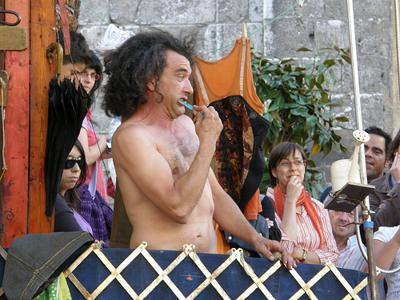person: (106, 31, 298, 272)
